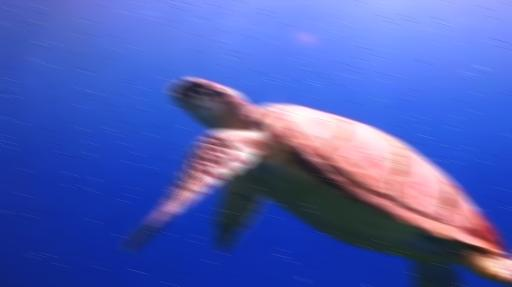Fish: (124, 79, 511, 286)
